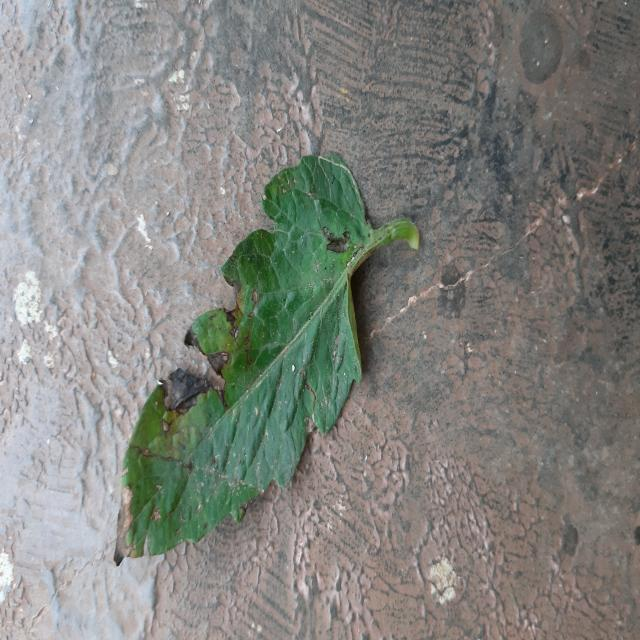defectedtomato: (121, 182, 361, 556)
tomato: (115, 156, 419, 562)
